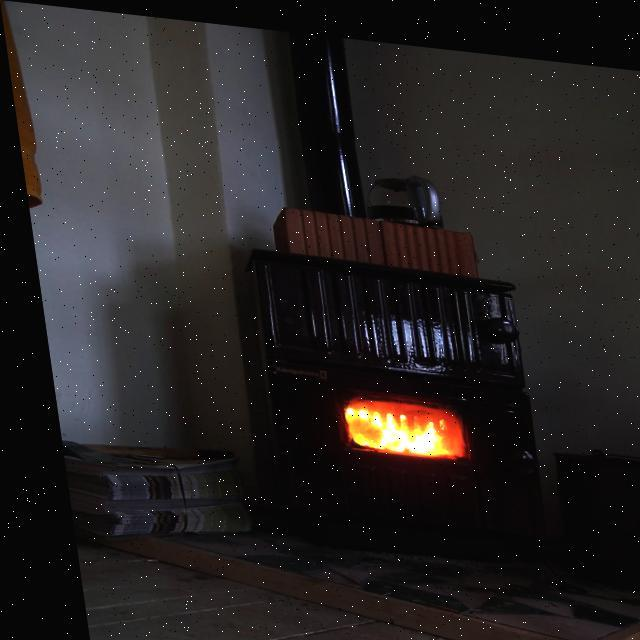Fire: (332, 391, 462, 454)
